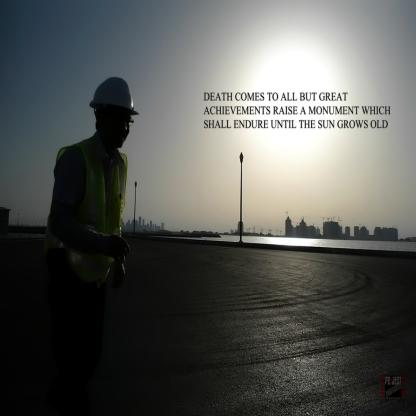Helmet: (85, 78, 134, 146)
